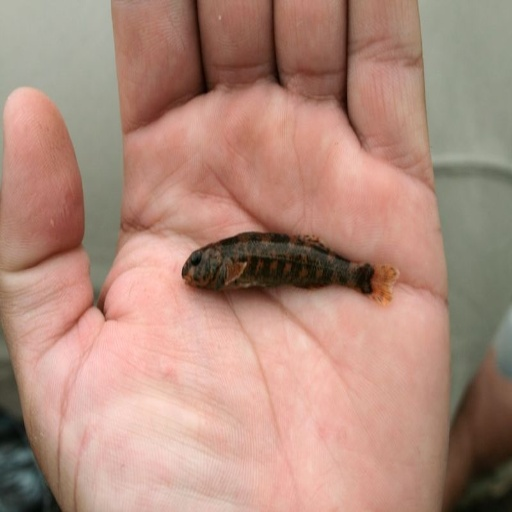hand: (0, 0, 452, 511)
